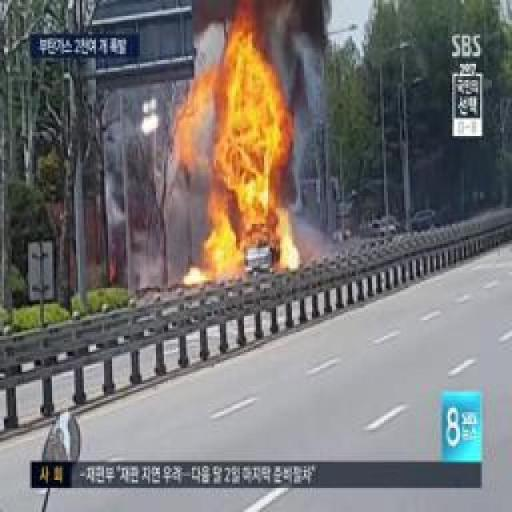smoke: (228, 58, 288, 244), (199, 254, 238, 278)
